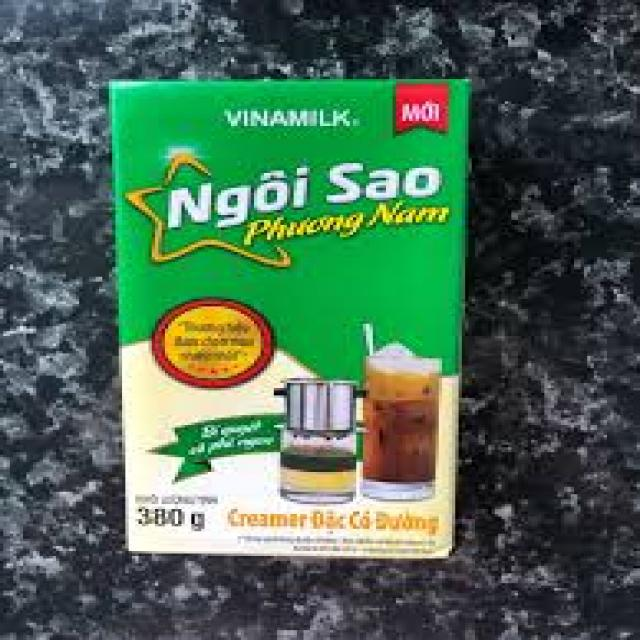non_white_jug: (93, 58, 482, 579)
